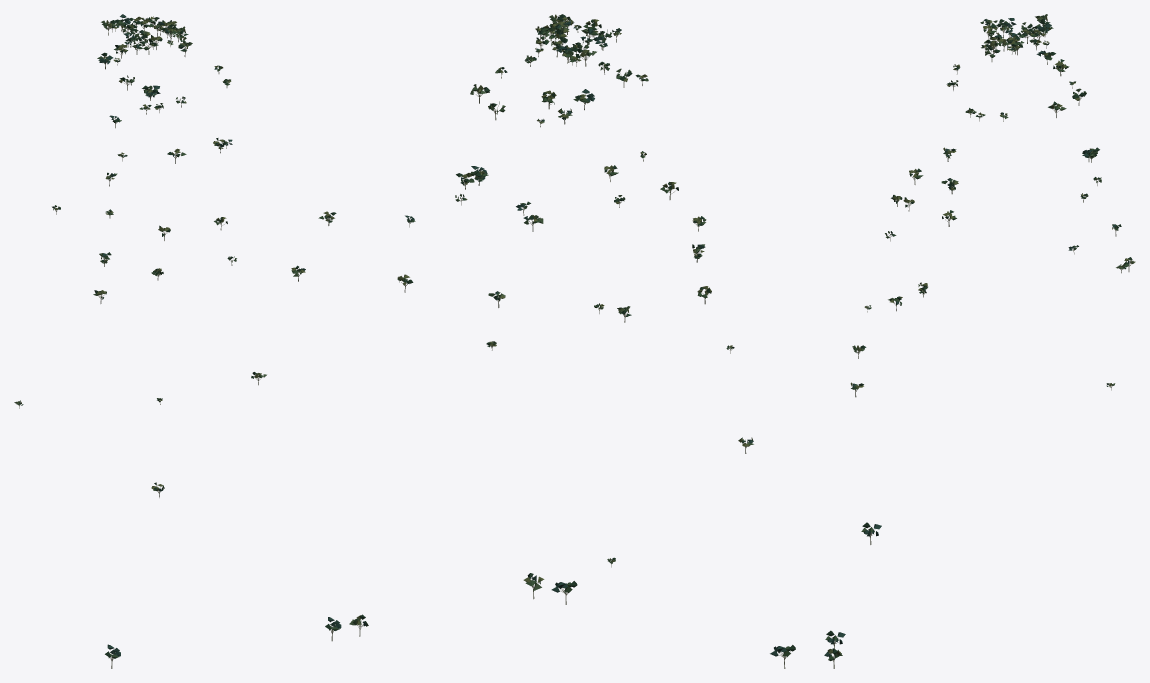
Rendered from forest_21_22.dae.
3 views of the same model, side by side, from view 1: azimuth 30°, elevation 25°; view 2: azimuth 150°, elevation 25°; view 3: azimuth 270°, elevation 25° (orthographic). The views are drawn at different scales.
Parts seen in each view (by area): view 1: Node; view 2: Node; view 3: Node.
Boxes of the visible parts, <box> form: Node: <box>14,14,368,668</box>; Node: <box>397,14,795,668</box>; Node: <box>824,14,1135,668</box>.
Size of the model in its own units: 10.09 by 10.41 by 21.43.
